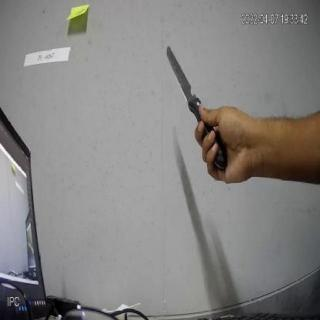knife: (160, 43, 229, 173)
